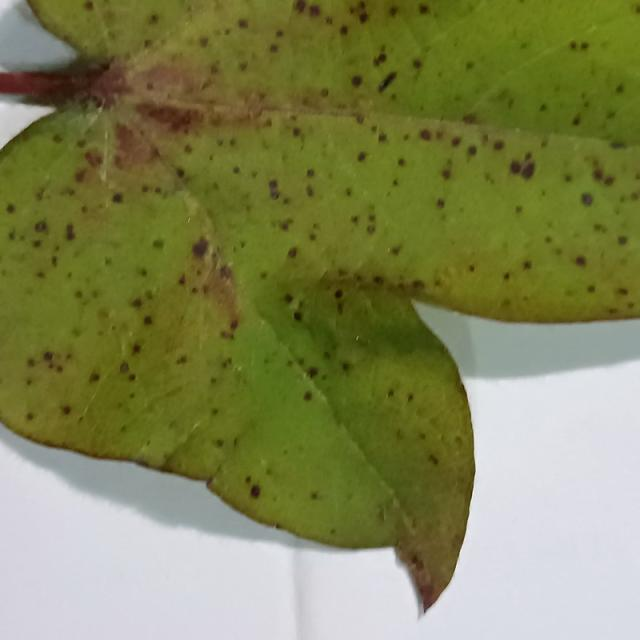Bacterial_Blight: (283, 381, 325, 413), (26, 349, 69, 376), (509, 156, 536, 180), (416, 580, 435, 610), (242, 480, 265, 503), (190, 236, 209, 259), (377, 72, 397, 92), (83, 149, 103, 169), (205, 477, 221, 494), (219, 264, 232, 281), (33, 220, 48, 234), (65, 223, 76, 242), (461, 113, 478, 125), (569, 40, 587, 51), (580, 192, 594, 206), (373, 52, 387, 66), (412, 556, 425, 571), (280, 218, 293, 232), (308, 4, 321, 18), (268, 179, 280, 194), (75, 169, 87, 184), (609, 140, 628, 149), (294, 0, 307, 13), (509, 161, 521, 175), (574, 255, 587, 267), (492, 139, 505, 151), (111, 192, 124, 204), (419, 129, 432, 141), (592, 169, 604, 182), (350, 75, 363, 87), (220, 330, 235, 340), (428, 453, 439, 466), (152, 238, 165, 249), (43, 350, 54, 362), (441, 168, 452, 180), (119, 362, 130, 374), (450, 136, 462, 147), (228, 318, 239, 330), (287, 247, 298, 259), (356, 151, 367, 163), (237, 18, 249, 29), (358, 12, 369, 24), (198, 36, 209, 48), (175, 167, 186, 179), (305, 185, 315, 198), (307, 367, 318, 378), (89, 372, 100, 383), (466, 145, 477, 156), (390, 245, 401, 256), (143, 315, 154, 326), (148, 13, 159, 24), (418, 5, 429, 16), (436, 198, 446, 210), (292, 126, 302, 138), (131, 298, 143, 308), (176, 355, 188, 365), (339, 24, 349, 36), (572, 114, 582, 126), (132, 343, 142, 354), (293, 311, 303, 322), (522, 260, 533, 270), (62, 405, 72, 416), (284, 293, 294, 304), (5, 203, 15, 214), (617, 235, 628, 245), (454, 435, 464, 446), (617, 287, 629, 296), (604, 176, 614, 186), (334, 289, 344, 299), (341, 362, 351, 372), (269, 43, 279, 53), (319, 88, 329, 98), (215, 438, 225, 448), (412, 59, 422, 69), (84, 1, 94, 11), (615, 84, 625, 94), (310, 491, 319, 501), (397, 157, 406, 167), (386, 389, 395, 399), (366, 225, 375, 234), (306, 168, 315, 177), (514, 205, 523, 214), (350, 215, 359, 224), (232, 165, 241, 174), (586, 285, 596, 293), (128, 373, 136, 382), (26, 412, 34, 421), (329, 527, 337, 535)
Cotton: (0, 0, 639, 609)
